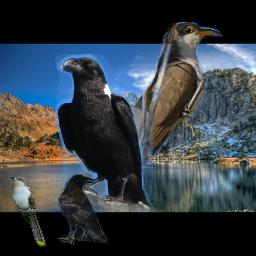Crow: (55, 54, 153, 210), (58, 174, 109, 246)
Cuckoo: (124, 22, 244, 173), (10, 176, 46, 247)
